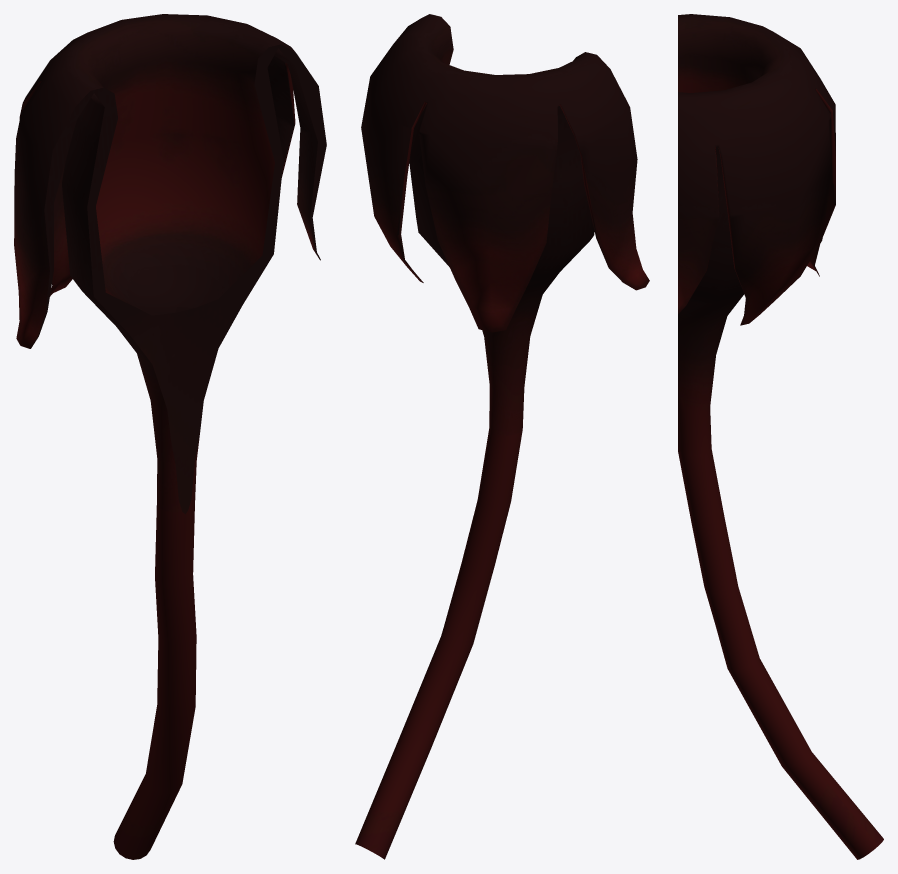
File: Sepal_02.gltf
3 renders of one model, left to right at view 1: azimuth 30°, elevation 25°; view 2: azimuth 150°, elevation 25°; view 3: azimuth 270°, elevation 25°, orthographic. The views are drawn at different scales.
Parts seen in each view (by area): view 1: Sepal_02; view 2: Sepal_02; view 3: Sepal_02.
Part boxes in pixels (x1=…): Sepal_02: x1=14, y1=14, x2=326, y2=859; Sepal_02: x1=355, y1=14, x2=649, y2=859; Sepal_02: x1=678, y1=14, x2=883, y2=859.
Size of the model in its own units: 10.18 by 28.21 by 6.76.
Materials: 1 (1 with a texture image).
